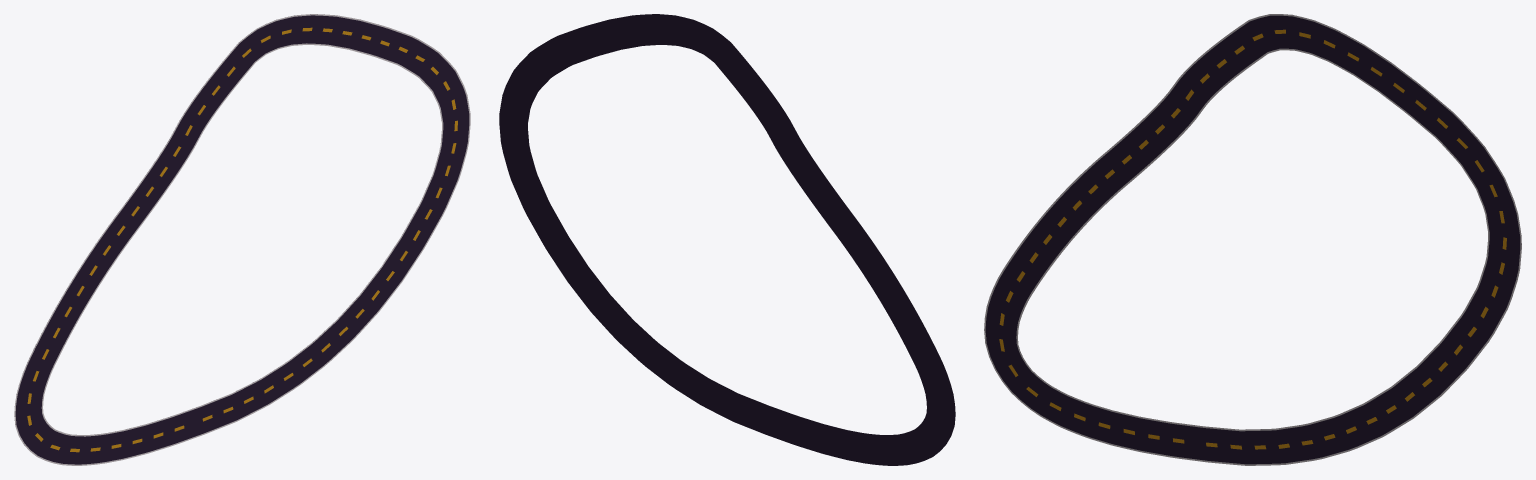
Rendered from track.obj.
The picture shows the model from 3 angles, left to right: view 1: azimuth 30°, elevation 25°; view 2: azimuth 150°, elevation 25°; view 3: azimuth 330°, elevation 25°; orthographic projection. The views are drawn at different scales.
Bounding box in the file's own units: 14.13 × 11.92 × 0.002.
